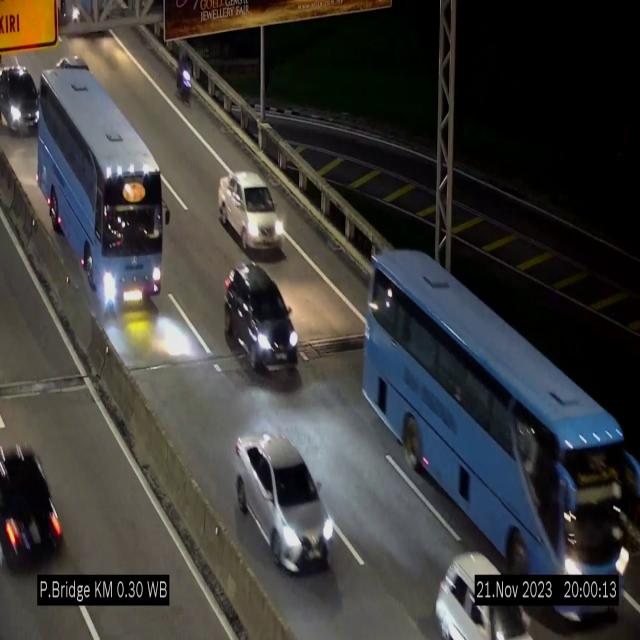Bus: (367, 248, 631, 619), (36, 69, 166, 307)
Car: (234, 430, 336, 572), (0, 420, 70, 588), (431, 539, 534, 640), (225, 259, 299, 374), (218, 172, 282, 252), (0, 51, 55, 142)
Motorcycle: (176, 48, 192, 108)
